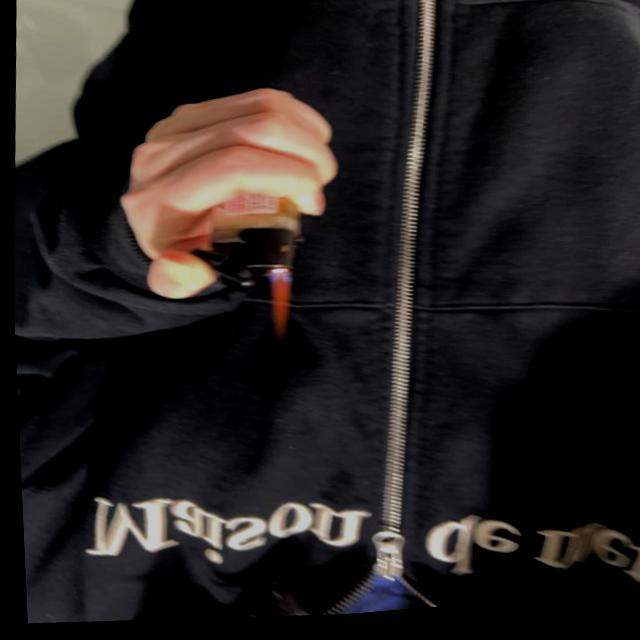helmet: (261, 270, 295, 359)
